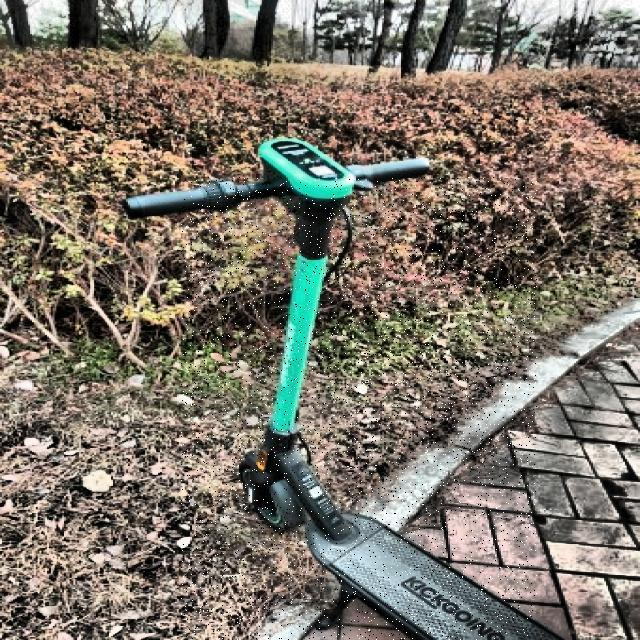bike: (124, 105, 607, 640)
